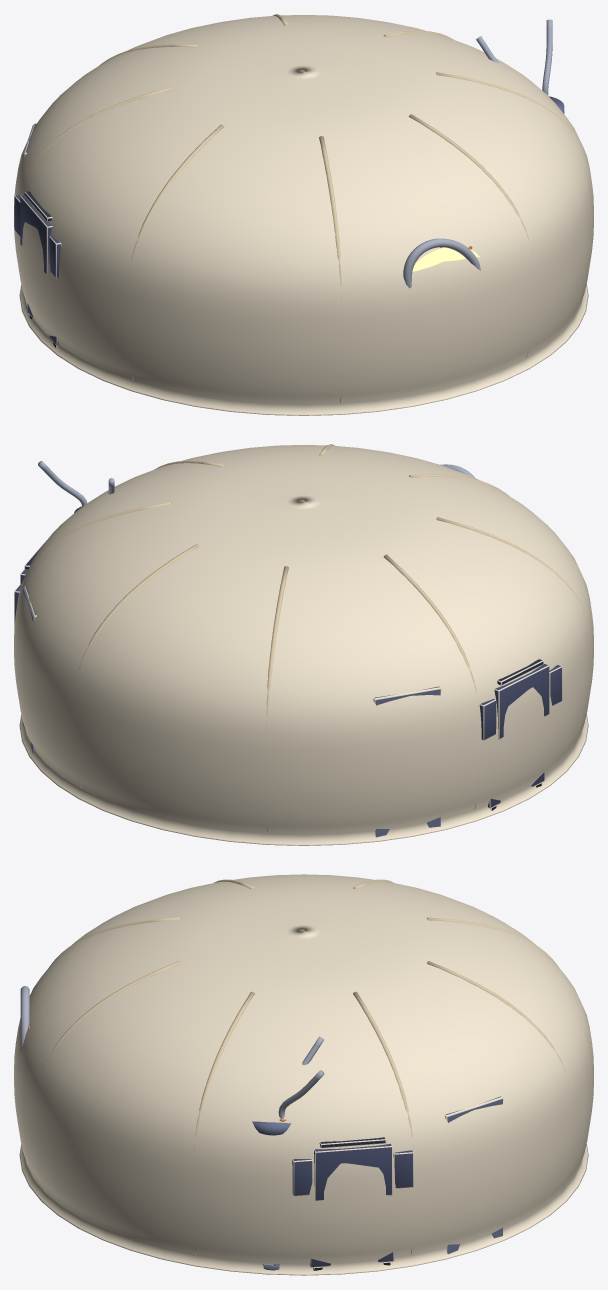
The model's file is cockpit.glb.
The picture shows the model from 3 angles, top to bottom: view 1: azimuth 30°, elevation 25°; view 2: azimuth 150°, elevation 25°; view 3: azimuth 270°, elevation 25°; orthographic projection.
Visible parts, largest first — view 1: Cockpit_Shell, Cockpit_Ribs, Station_Nav, Window_Frame, Reactor_Cage, Cockpit_Window; view 2: Cockpit_Shell, Cockpit_Ribs, Station_Nav, Reactor_Cage; view 3: Cockpit_Shell, Station_Reactor, Cockpit_Ribs, Reactor_Cage, Window_Frame.
Boxes of the visible parts, x1=… form: Cockpit_Shell: x1=14, y1=15, x2=593, y2=415; Cockpit_Ribs: x1=20, y1=14, x2=584, y2=403; Station_Nav: x1=14, y1=191, x2=61, y2=348; Window_Frame: x1=403, y1=238, x2=480, y2=288; Reactor_Cage: x1=476, y1=19, x2=552, y2=97; Cockpit_Window: x1=412, y1=247, x2=479, y2=271; Cockpit_Shell: x1=14, y1=445, x2=593, y2=845; Cockpit_Ribs: x1=23, y1=444, x2=588, y2=833; Station_Nav: x1=479, y1=659, x2=562, y2=810; Reactor_Cage: x1=38, y1=461, x2=114, y2=506; Cockpit_Shell: x1=14, y1=874, x2=593, y2=1275; Station_Reactor: x1=292, y1=1137, x2=413, y2=1270; Cockpit_Ribs: x1=38, y1=879, x2=569, y2=1254; Reactor_Cage: x1=263, y1=1036, x2=324, y2=1265; Window_Frame: x1=20, y1=986, x2=29, y2=1051.
Size of the model in its own units: 7.6 by 3.22 by 7.48.
